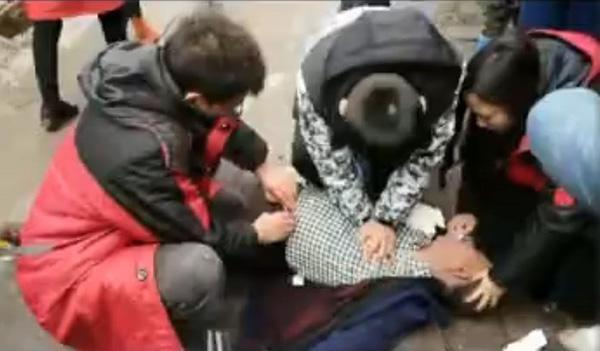Fall-Detected: (225, 151, 509, 347)
